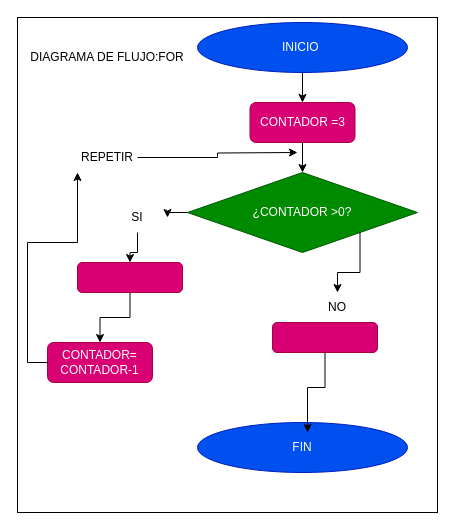
Some shapes in this 455 by 530 pixel diagram are drawn without their labels. Each missing label, with the centre of its shape:
IMPRIMIR "!DESPEGUE": (325,337)
IMPRIMIR CONTADOR: (129,277)
